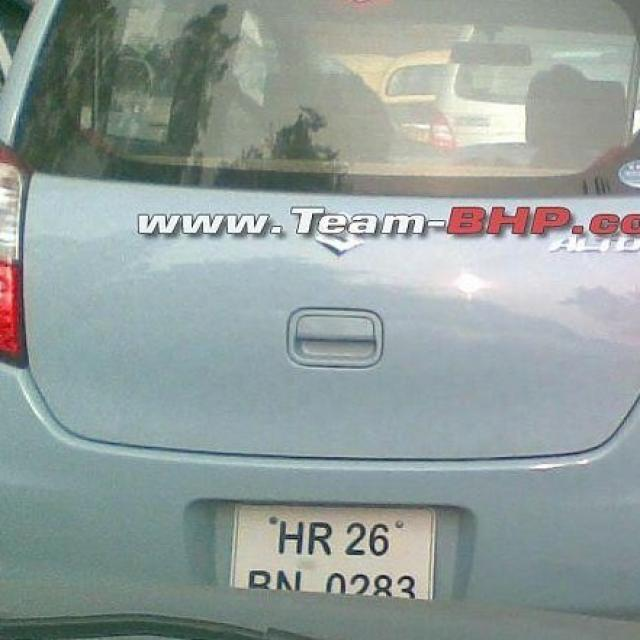number_plate: (235, 505, 437, 605)
